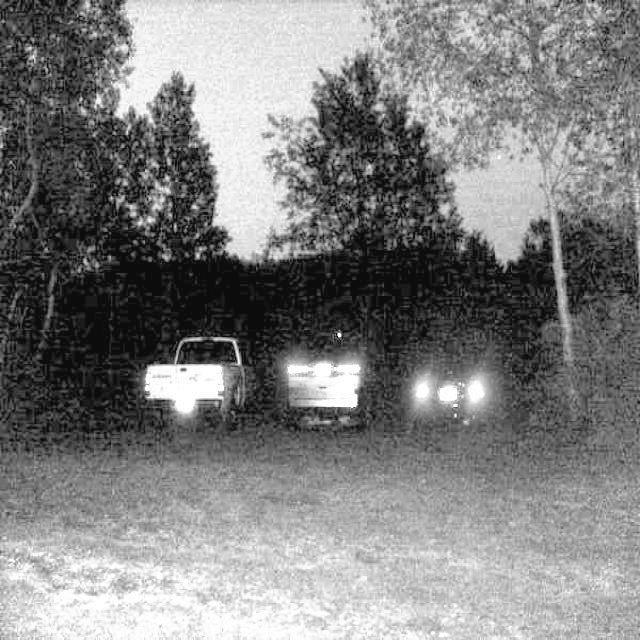Car: (395, 307, 514, 444), (130, 320, 260, 443), (278, 316, 388, 436)
